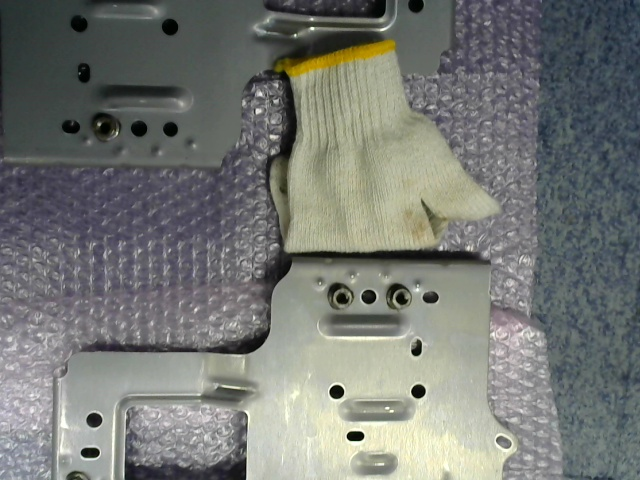dog: (91, 111, 120, 141), (326, 282, 354, 310), (386, 282, 413, 310)
